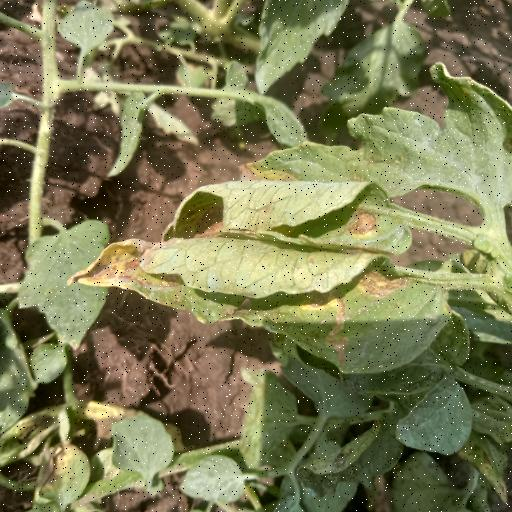Tomato_Brown_Spots: (70, 230, 460, 382), (170, 176, 438, 258)
